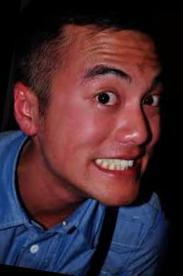Drunk: (77, 37, 159, 207)
